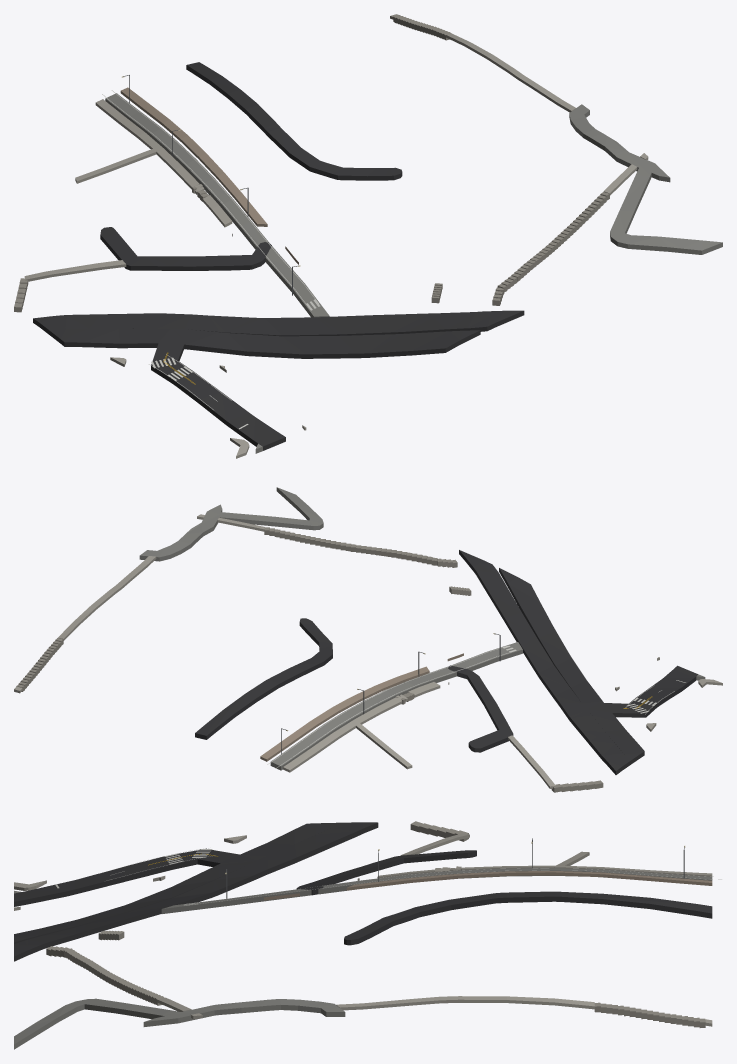
The picture shows the model from 3 angles, top to bottom: view 1: azimuth 30°, elevation 25°; view 2: azimuth 150°, elevation 25°; view 3: azimuth 270°, elevation 25°; orthographic projection. The views are drawn at different scales.
Size of the model in its own units: 147 by 34.38 by 148.
